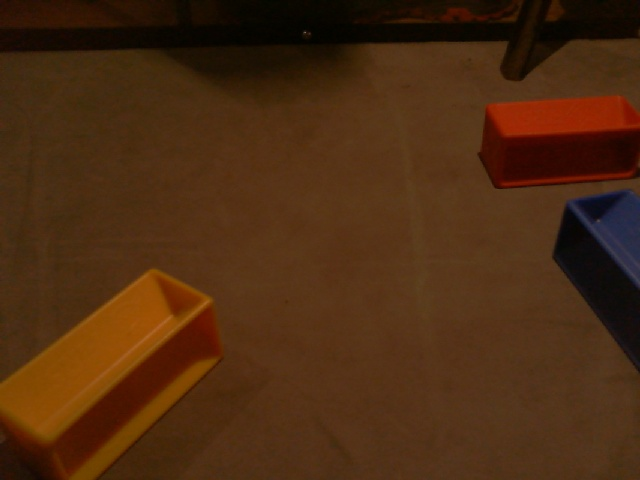BlueSample: (552, 189, 640, 374)
RedSample: (481, 93, 640, 189)
YellowSample: (2, 265, 227, 480)
